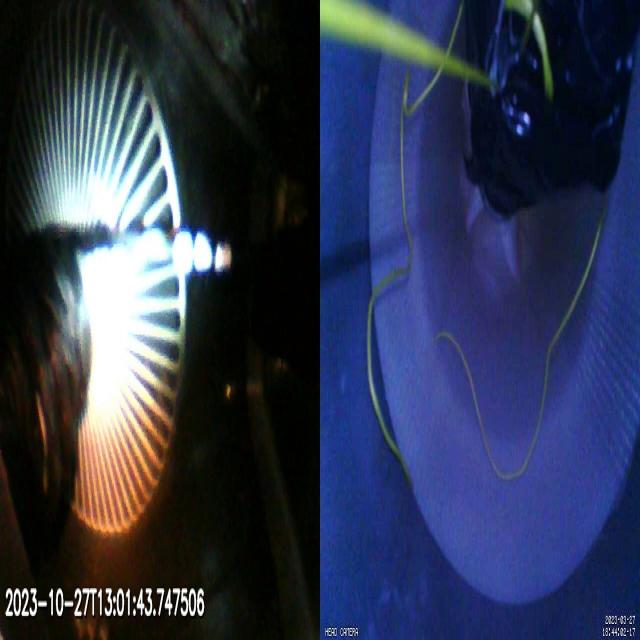white-dots: (171, 229, 232, 283)
